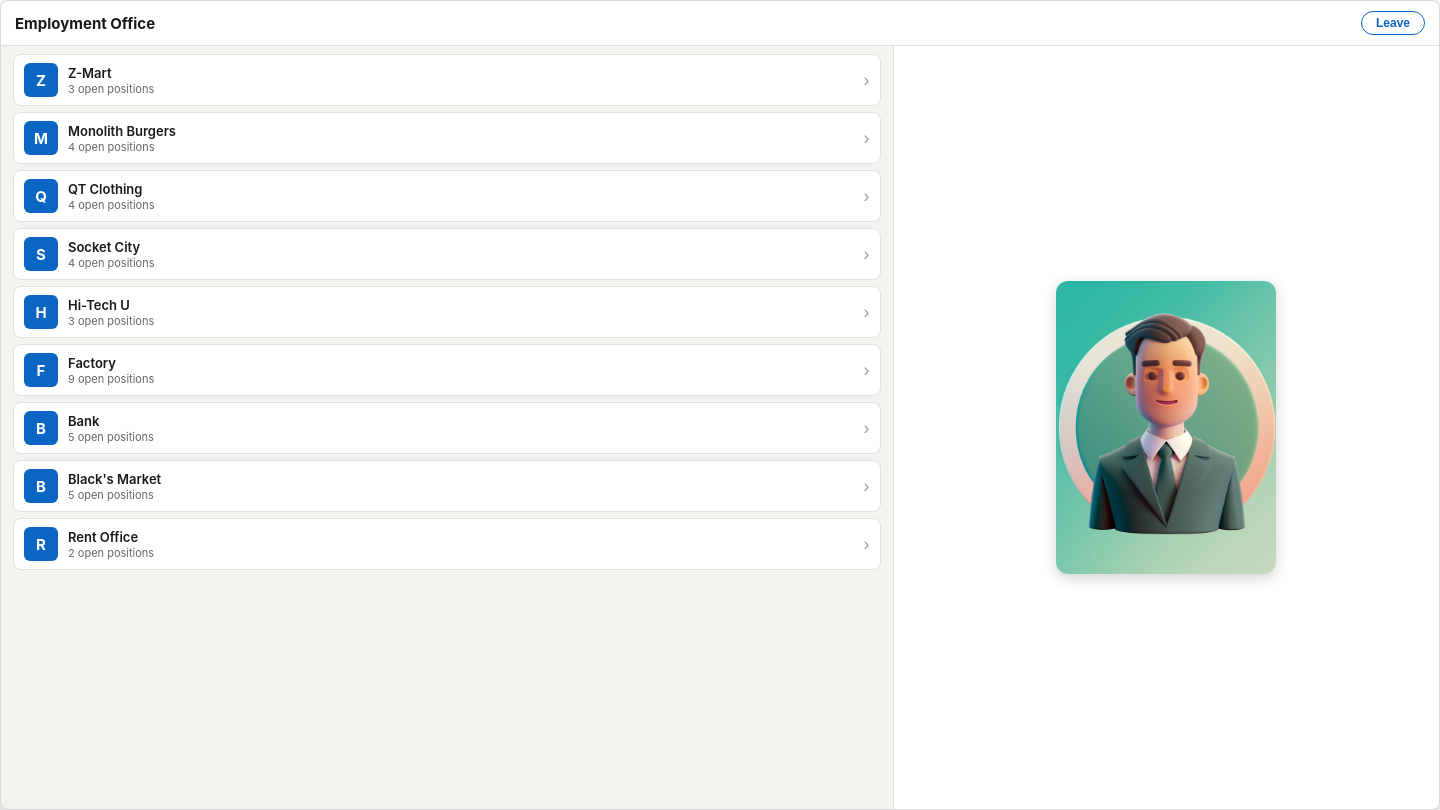
Test case: EmploymentOfficeScreen › lists employers, then shows that employer's jobs on click
Click the text "Monolith Burgers": [122, 130] box [68,122,176,138]
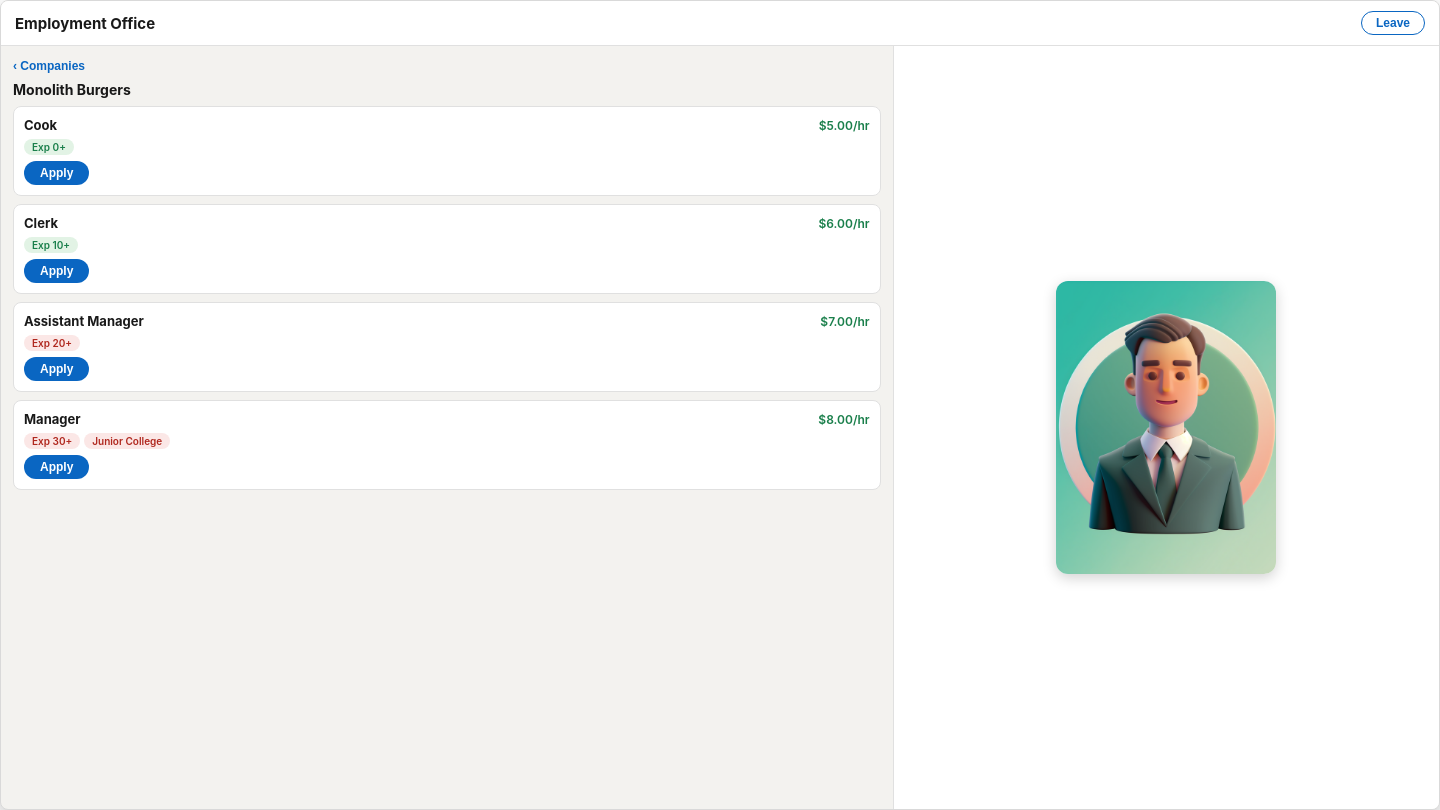
Expected: the text "Cook" is shown, [24,117,57,133]
